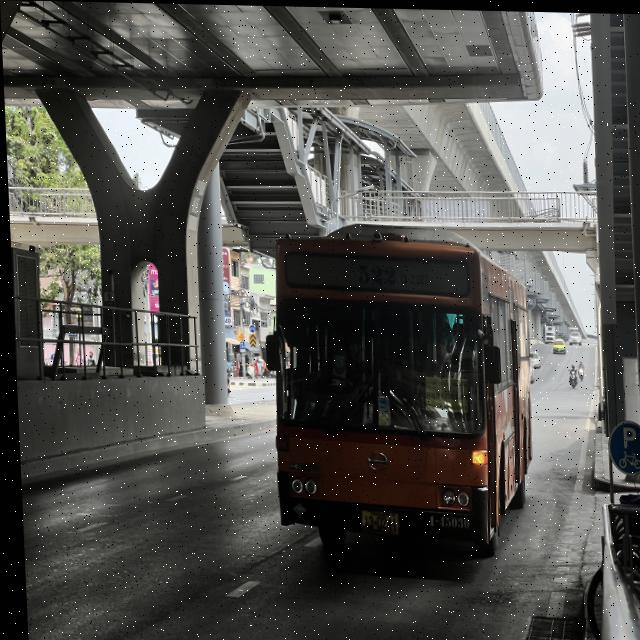BMTA-bus: (258, 233, 535, 576)
Bus-Line-Number: (352, 256, 432, 294)
Destination-Sign-Normal-Expressway: (421, 372, 468, 412)
